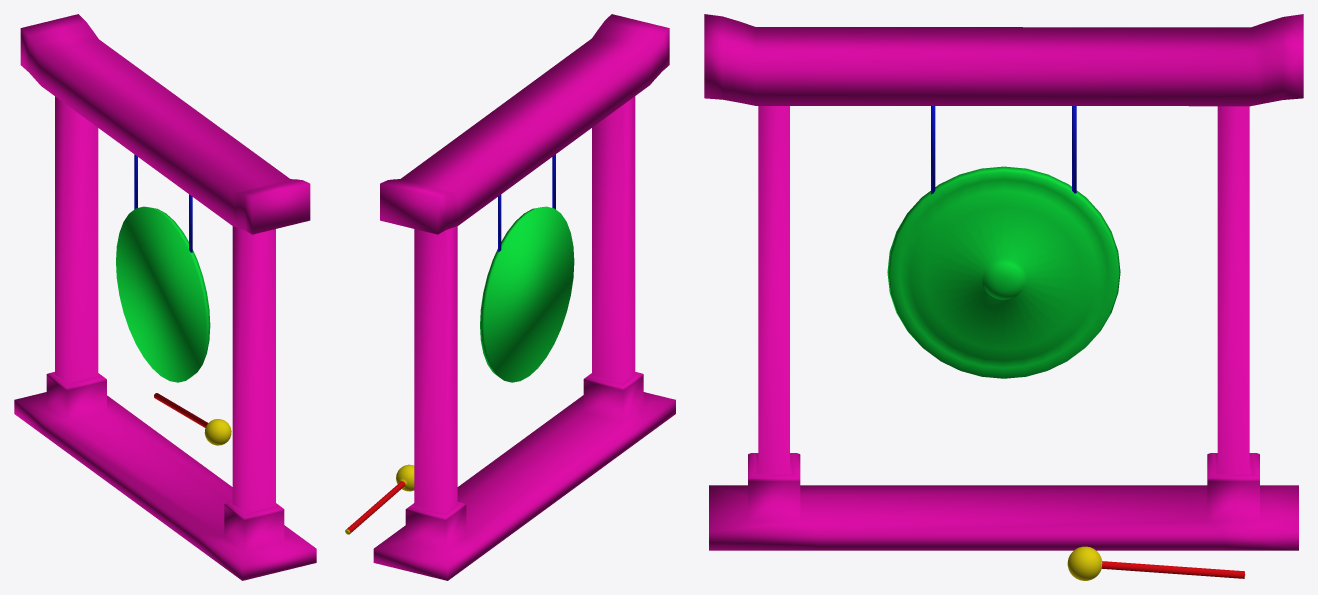
File: Gong.fbx
3 renders of one model, left to right at view 1: azimuth 30°, elevation 25°; view 2: azimuth 150°, elevation 25°; view 3: azimuth 270°, elevation 25°, orthographic. The views are drawn at different scales.
Parts seen in each view (by area): view 1: Cube; view 2: Cube; view 3: Cube.
Boxes of the visible parts, x1,y1,x2,y2 form: Cube: [14, 14, 316, 580]; Cube: [345, 14, 675, 580]; Cube: [704, 14, 1303, 580].
Size of the model in its own units: 235 by 647 by 710.
